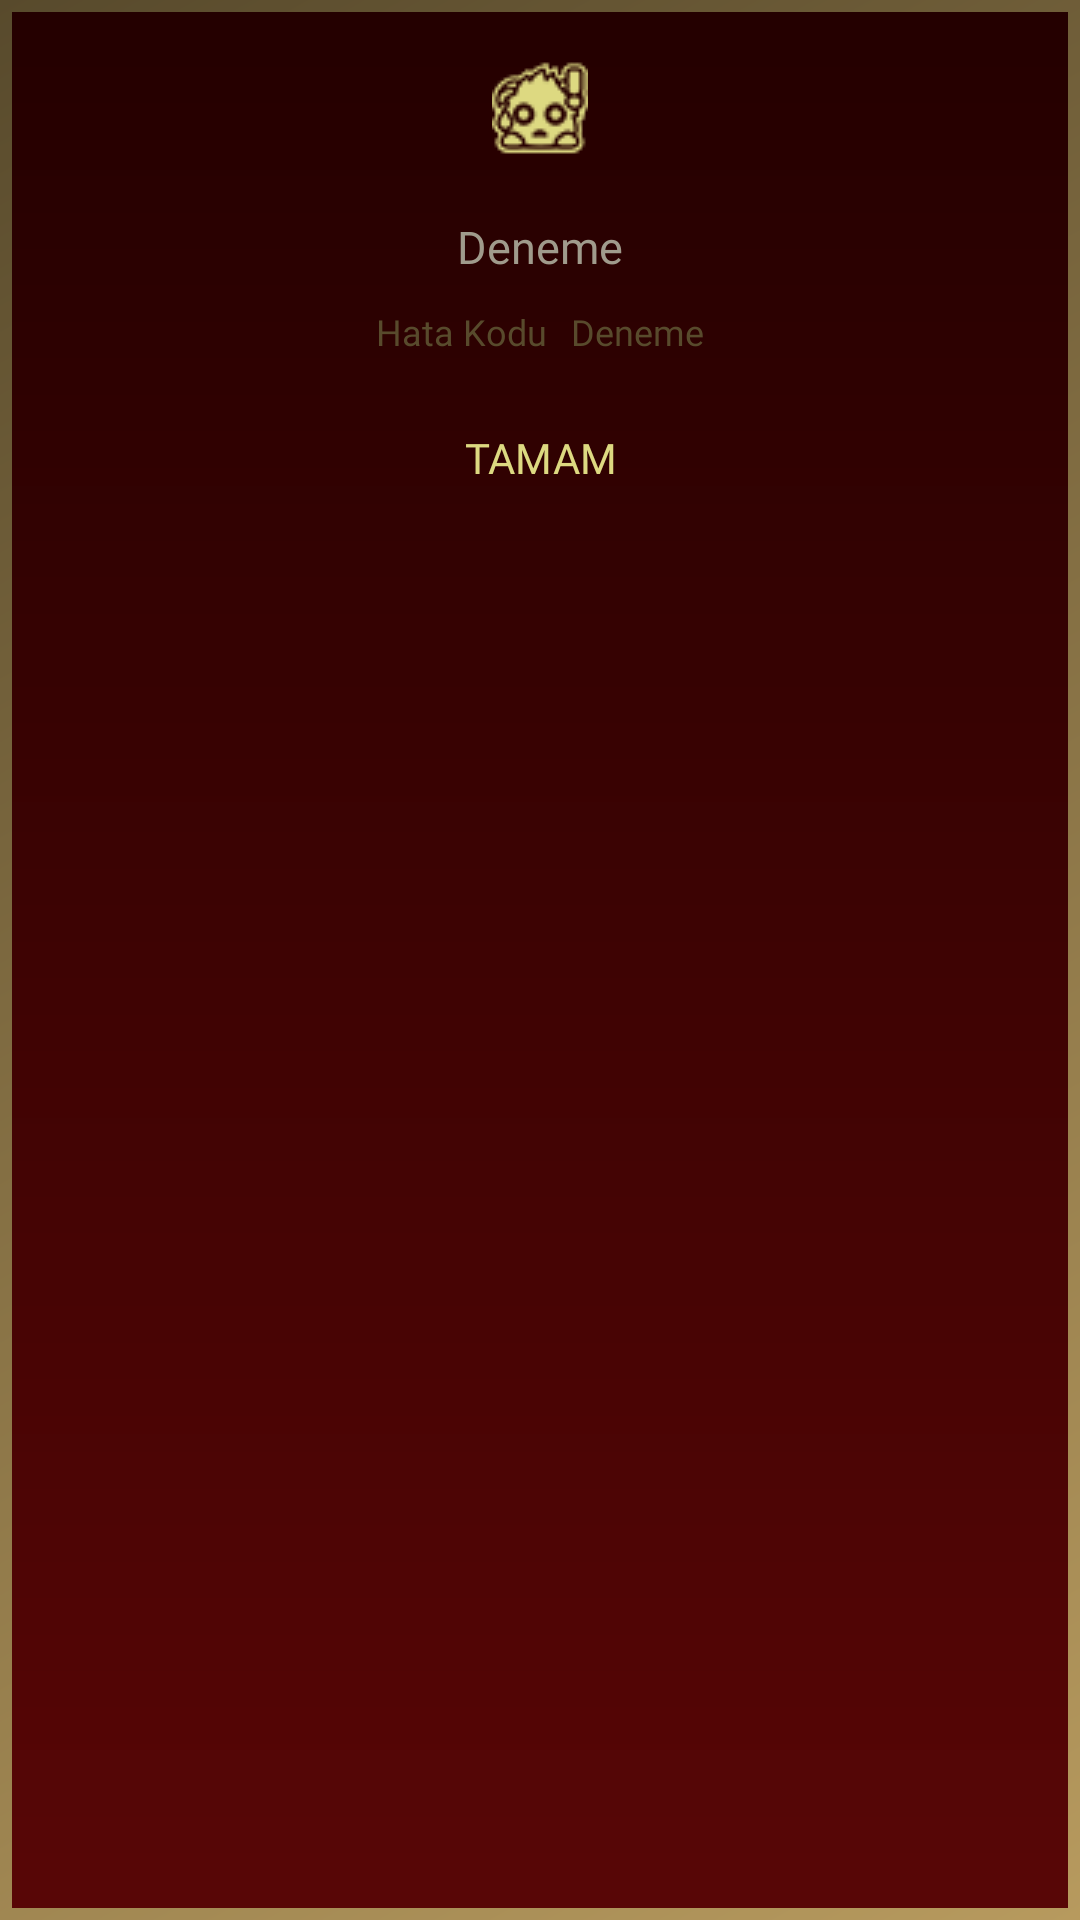

Where icons sit on this 1080 × 1920 app screen, as (x1, y1, x2, y2):
error: (492, 62, 588, 154)
